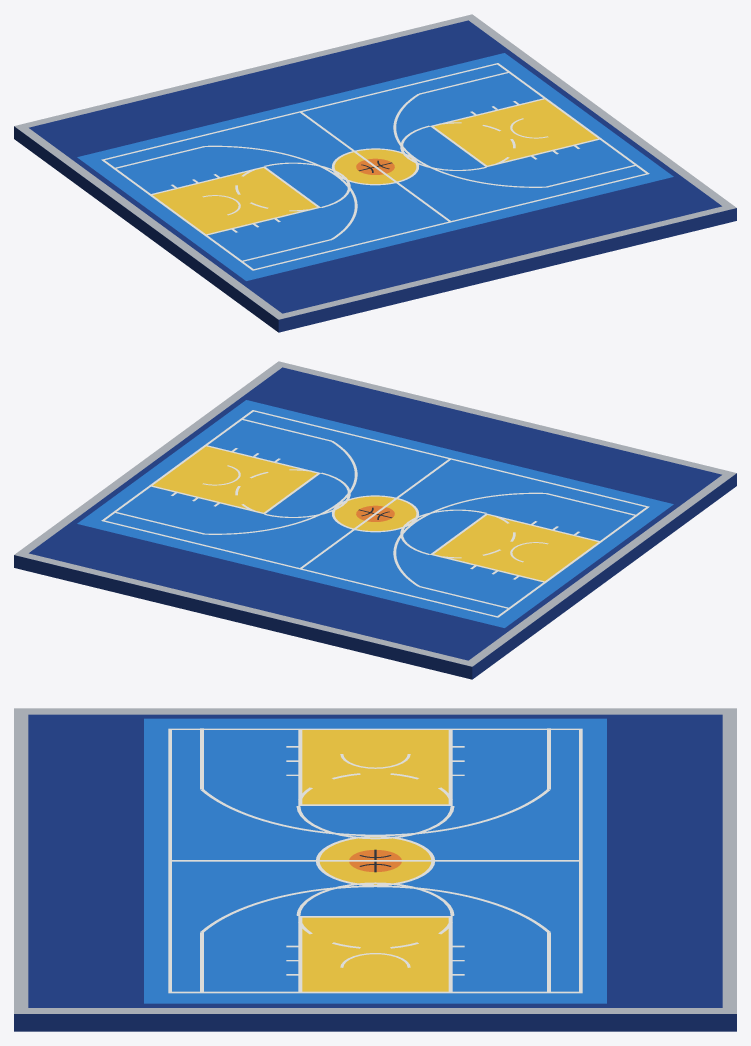
File: quadra_basquete_azul.glb
3 views of the same model, one above another, from view 1: azimuth 30°, elevation 25°; view 2: azimuth 150°, elevation 25°; view 3: azimuth 270°, elevation 25° (orthographic). The views are drawn at different scales.
Parts seen in each view (by area): view 1: quadra_basquete_azul; view 2: quadra_basquete_azul; view 3: quadra_basquete_azul.
Part boxes in pixels (x1,y1,x2,y2): quadra_basquete_azul: [14, 14, 736, 332]; quadra_basquete_azul: [14, 361, 736, 679]; quadra_basquete_azul: [14, 708, 736, 1031].
Size of the model in its own units: 15 by 0.4108 by 15.
Materials: 1 (1 with a texture image).
